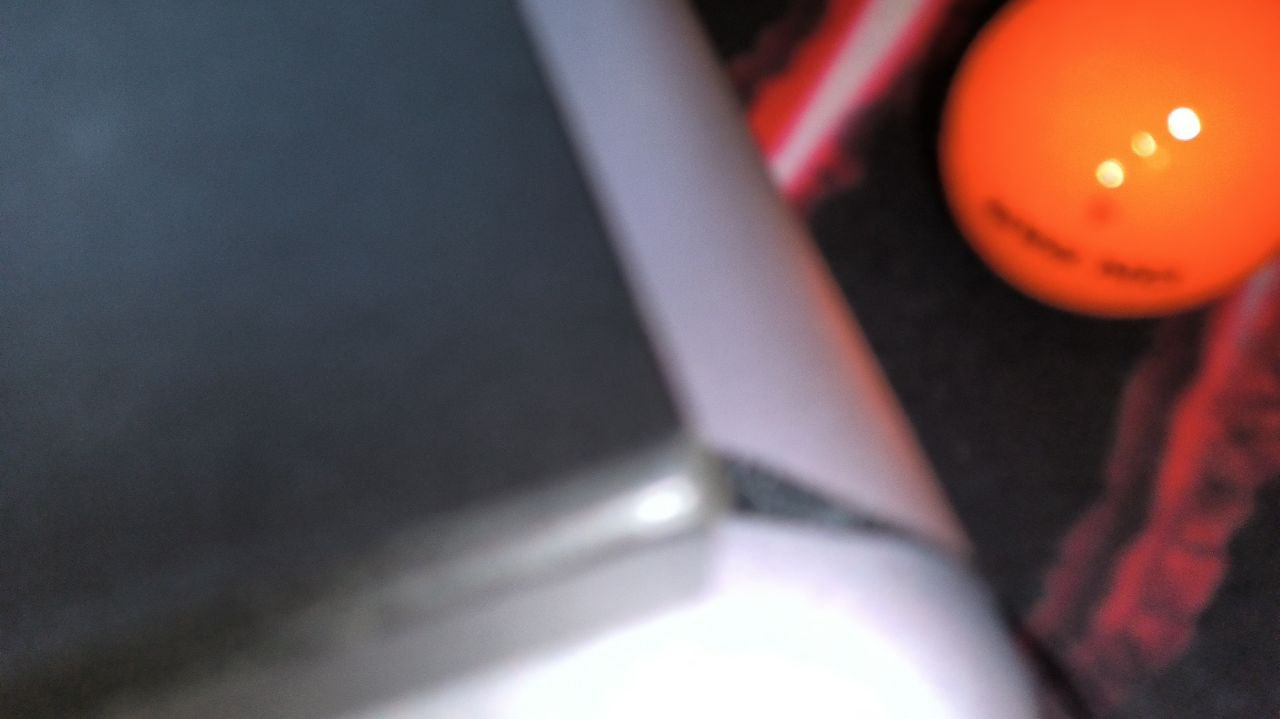orange_ball: (937, 0, 1280, 319)
